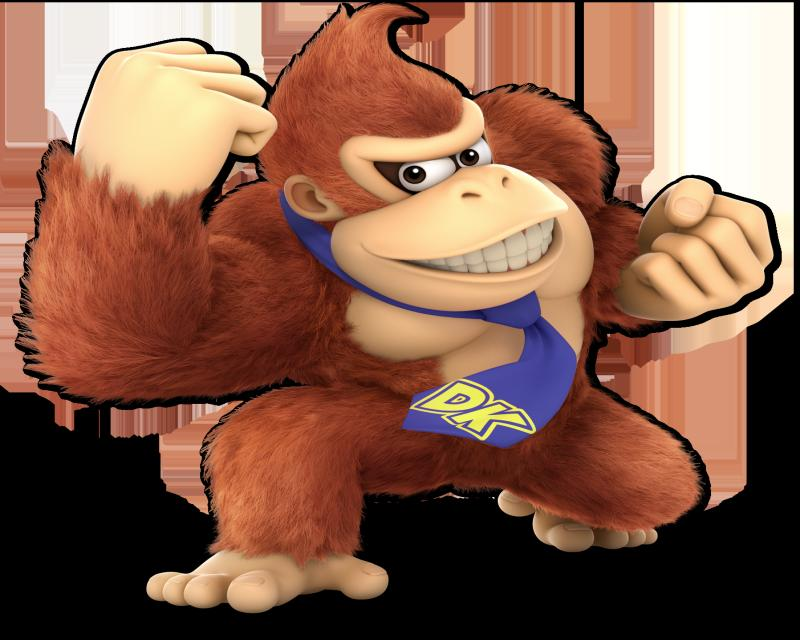dk: (252, 4, 626, 329)
